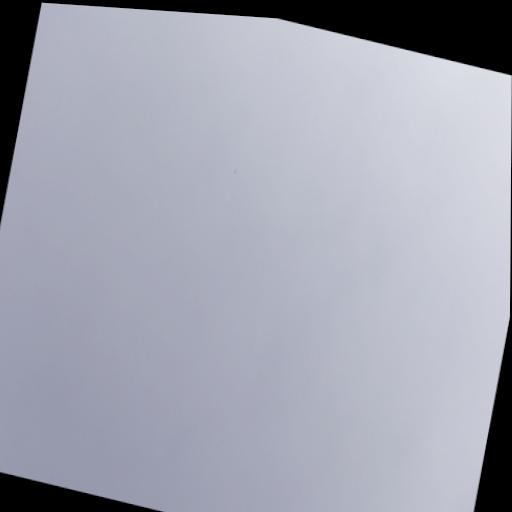drones: (231, 167, 237, 175)
